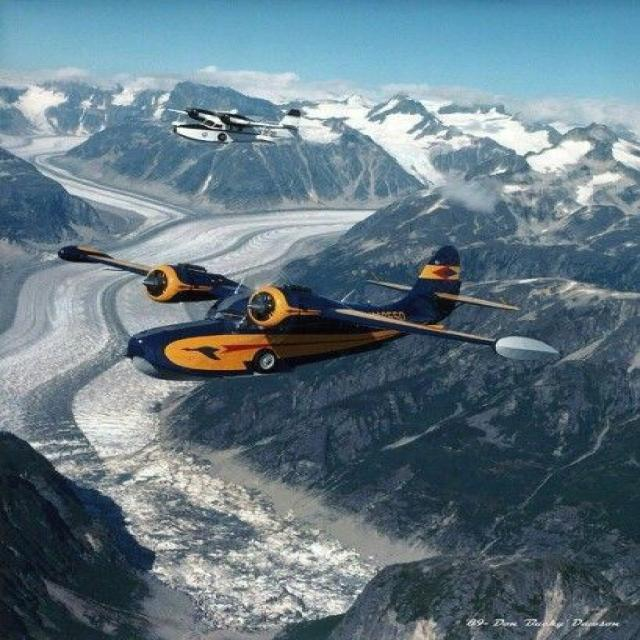iha: (50, 238, 563, 382), (161, 31, 320, 81)
